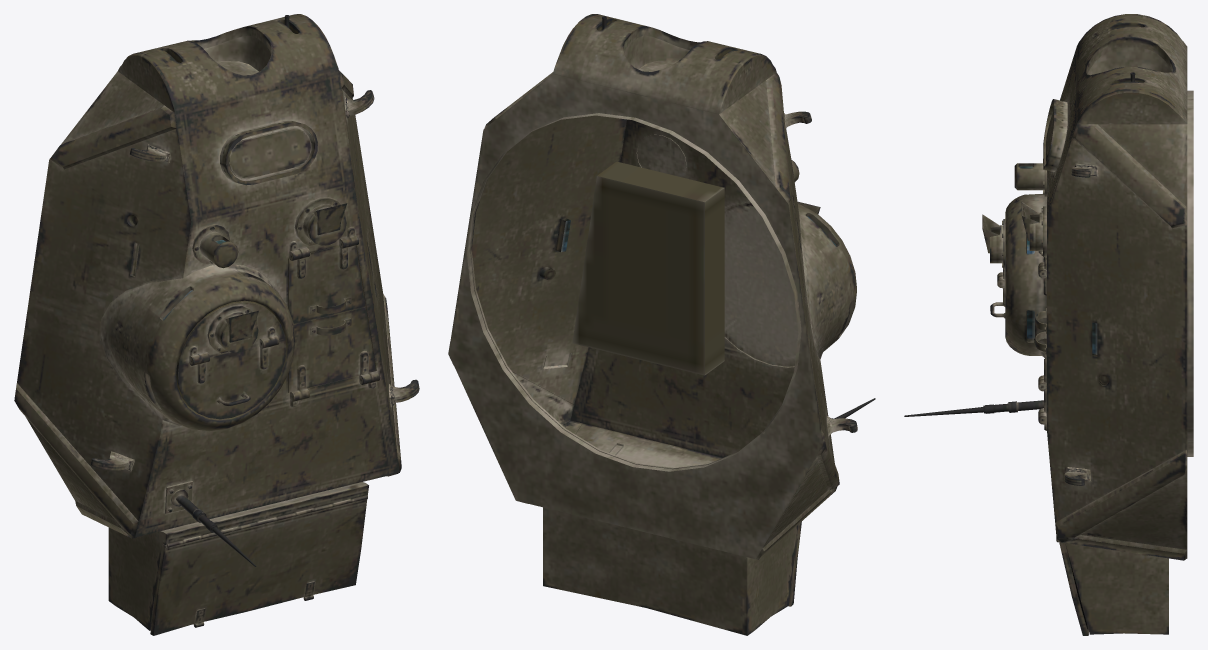
The model's file is Turret_01.glb.
3 views of the same model, side by side, from view 1: azimuth 30°, elevation 25°; view 2: azimuth 150°, elevation 25°; view 3: azimuth 270°, elevation 25° (orthographic). The views are drawn at different scales.
Parts seen in each view (by area): view 1: set_0_group_0; view 2: set_0_group_0; view 3: set_0_group_0.
Boxes of the visible parts, left/top/right/bottom form: set_0_group_0: left=14, top=14, right=419, bottom=635; set_0_group_0: left=448, top=14, right=875, bottom=635; set_0_group_0: left=904, top=14, right=1193, bottom=635.
Size of the model in its own units: 1.81 by 2.63 by 1.26.
Materials: 1 (1 with a texture image).
